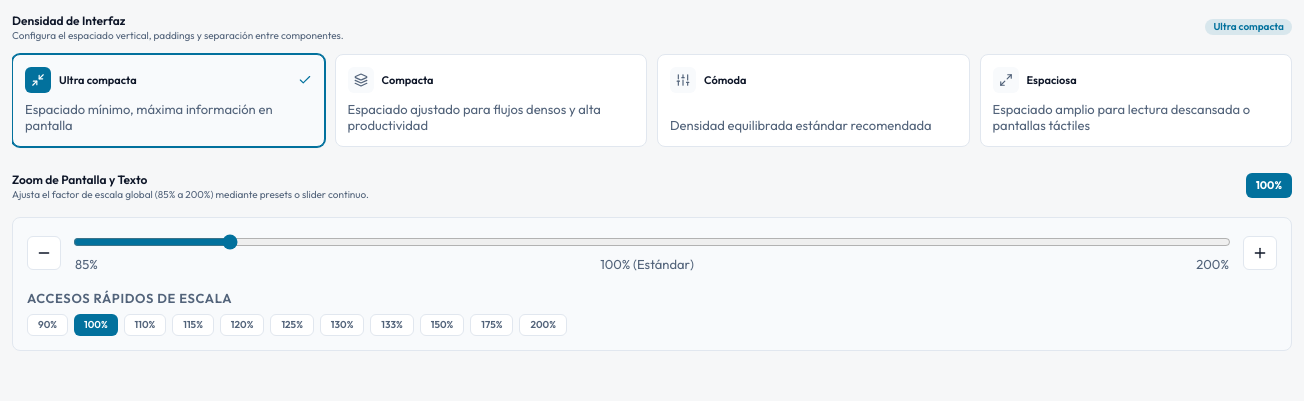
DensityZoomSelector Component › updates zoom percentage via increment (+) and decrement (-) buttons
Click the button named "Aumentar zoom": (1260, 253) x1=1243 y1=236 x2=1277 y2=270
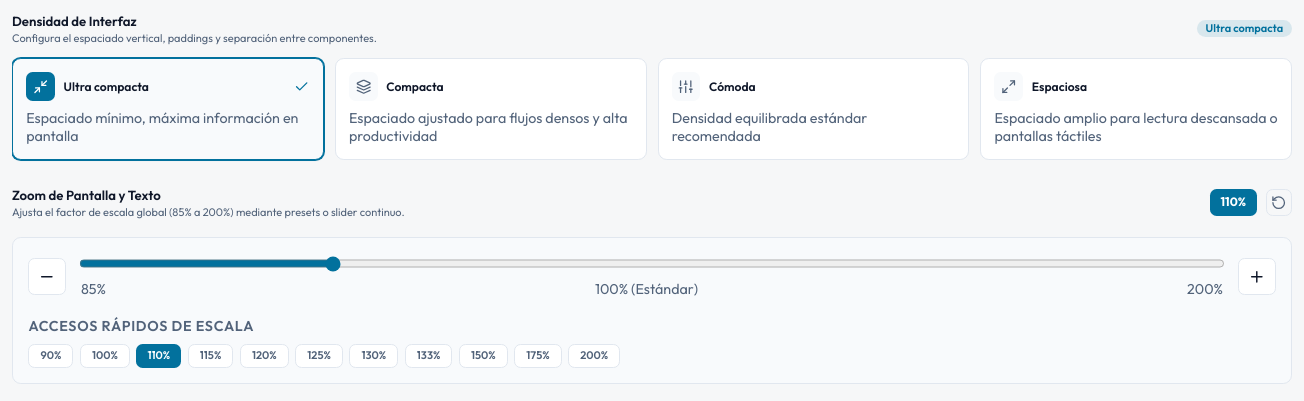
Expected: the text with test id "zoom-percentage-badge" reads "110%", x1=1210 y1=189 x2=1257 y2=216
Click the button named "Disminuir zoom": (47, 277) x1=28 y1=258 x2=66 y2=295
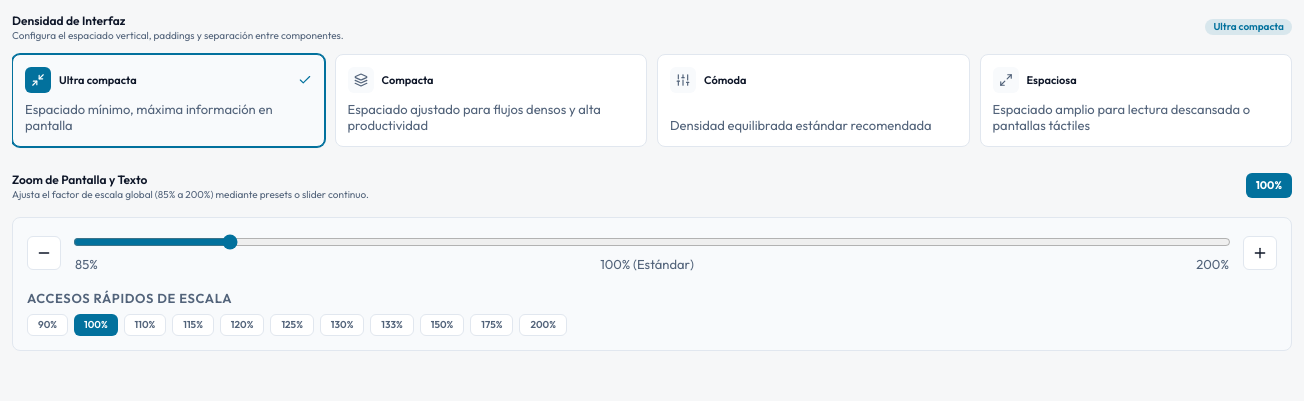
Expected: the text with test id "zoom-percentage-badge" reads "100%", x1=1246 y1=173 x2=1292 y2=198
